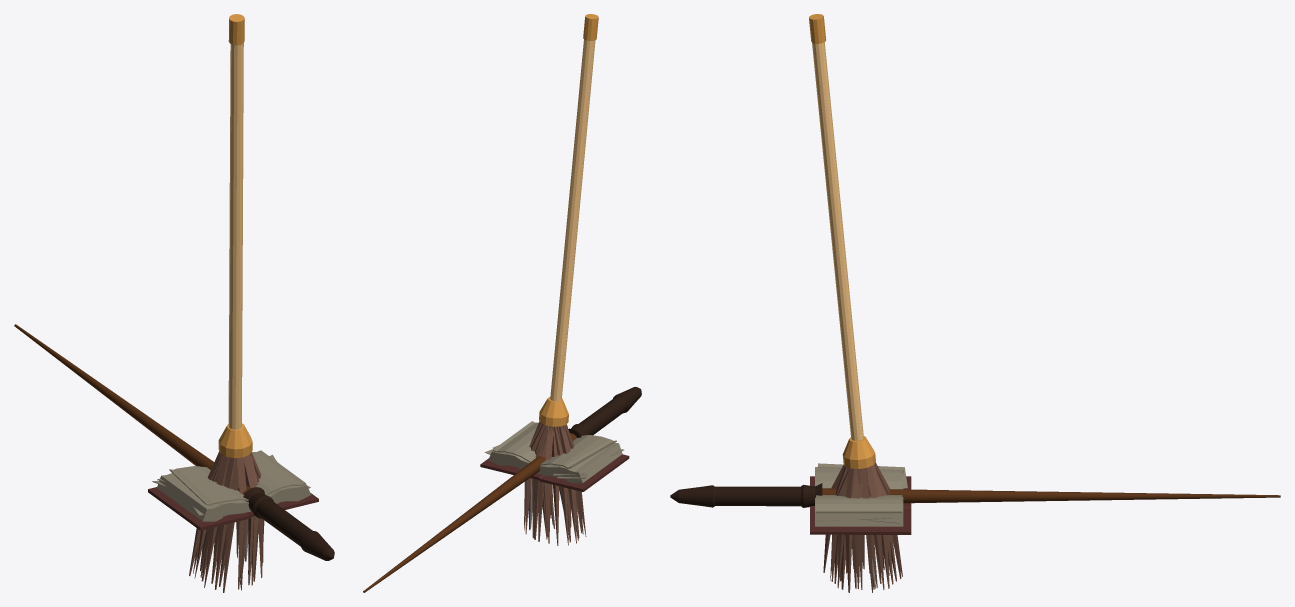
Rendered from Book.glb.
3 views of the same model, side by side, from view 1: azimuth 30°, elevation 25°; view 2: azimuth 150°, elevation 25°; view 3: azimuth 270°, elevation 25° (orthographic). The views are drawn at different scales.
Visible parts, largest first — view 1: Broom, Book, Wand.001, Wand; view 2: Broom, Book, Wand, Wand.001; view 3: Broom, Book, Wand, Wand.001.
Boxes of the visible parts, x1=… form: Broom: x1=189, y1=14, x2=264, y2=592; Book: x1=148, y1=450, x2=318, y2=530; Wand.001: x1=243, y1=487, x2=334, y2=560; Wand: x1=14, y1=324, x2=251, y2=494; Broom: x1=524, y1=14, x2=598, y2=545; Book: x1=480, y1=421, x2=629, y2=491; Wand: x1=363, y1=433, x2=576, y2=592; Wand.001: x1=568, y1=387, x2=641, y2=437; Broom: x1=809, y1=14, x2=902, y2=592; Book: x1=810, y1=463, x2=911, y2=534; Wand: x1=822, y1=488, x2=1280, y2=503; Wand.001: x1=670, y1=483, x2=822, y2=507.
Bounding box in the file's own units: 0.9292 × 4.37 × 4.29.
